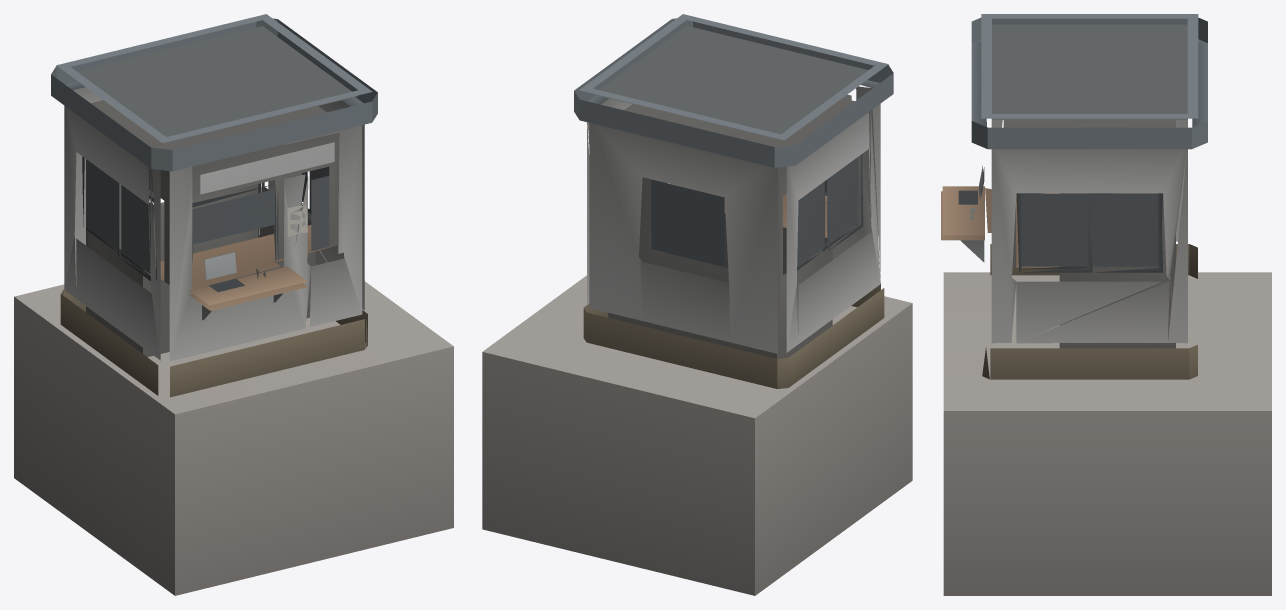
File: ticket.lod.glb
3 renders of one model, left to right at view 1: azimuth 30°, elevation 25°; view 2: azimuth 150°, elevation 25°; view 3: azimuth 270°, elevation 25°, orthographic. The views are drawn at different scales.
Visible parts, largest first — view 1: ticket; view 2: ticket; view 3: ticket.
Boxes of the visible parts, x1=… form: ticket: x1=14, y1=14, x2=453, y2=595; ticket: x1=482, y1=14, x2=912, y2=595; ticket: x1=941, y1=14, x2=1271, y2=595.
Size of the model in its own units: 2.48 by 3.69 by 2.48.
